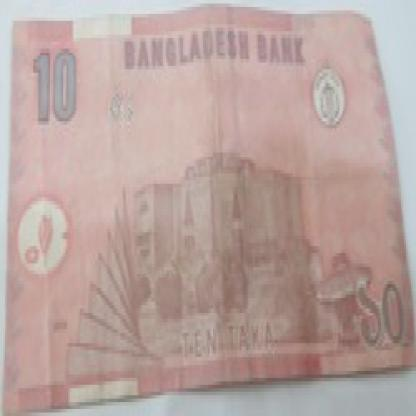Ten Taka: (26, 35, 84, 135), (353, 267, 409, 354), (181, 190, 225, 204)
